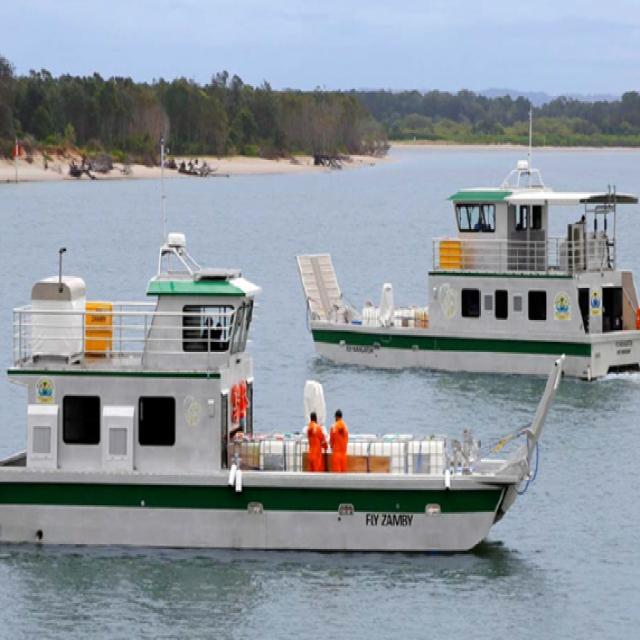houseboat: (0, 261, 534, 554), (294, 180, 640, 371)
